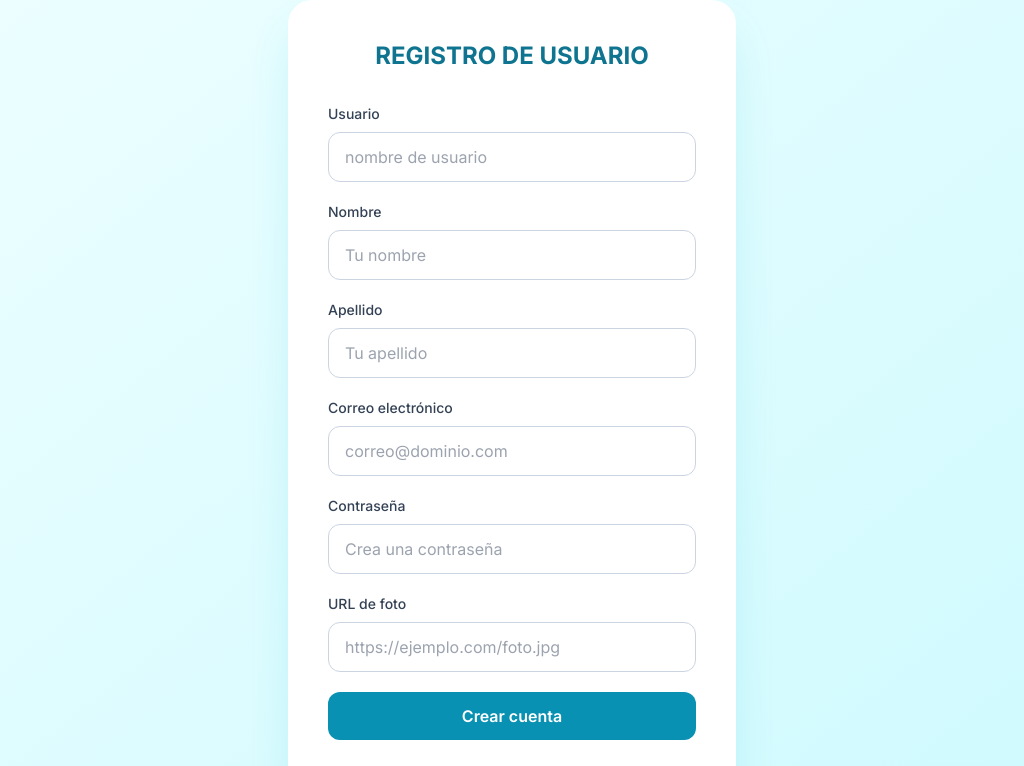
Test case: Register Page › debe cambiar el estado del botón mientras está procesando
Type "jdoe" into the field with placeholder "nombre de usuario" at (512, 157), box [328, 132, 696, 182]
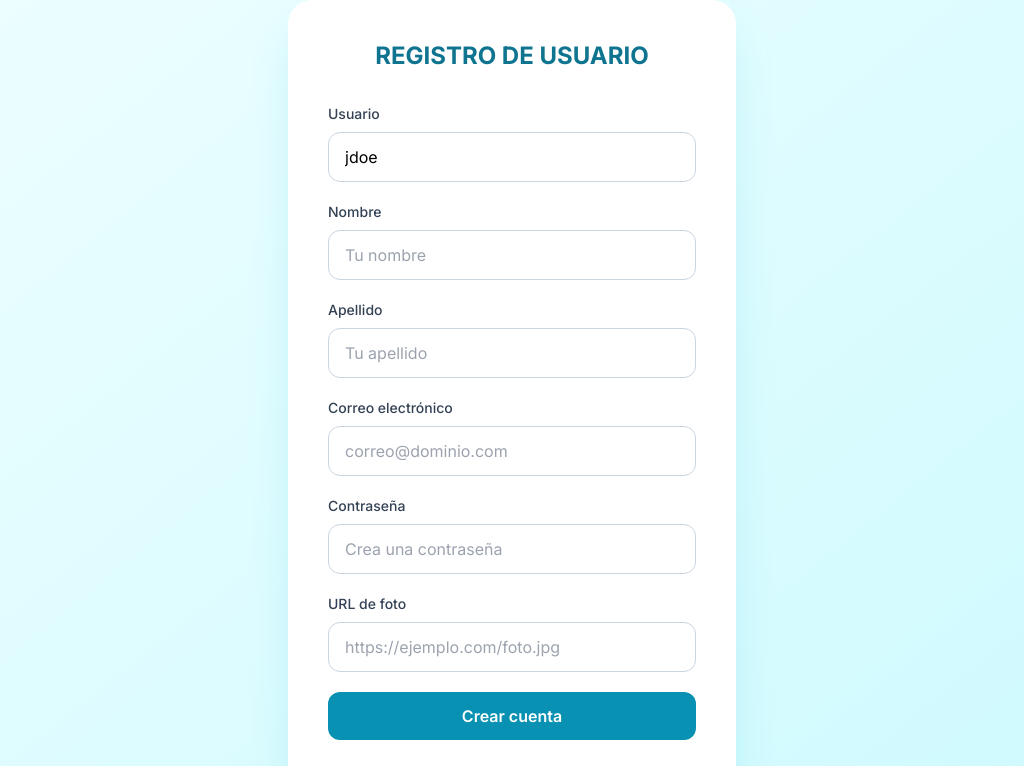
Type "John" into the field with placeholder "Tu nombre" at (512, 255), box [328, 230, 696, 280]
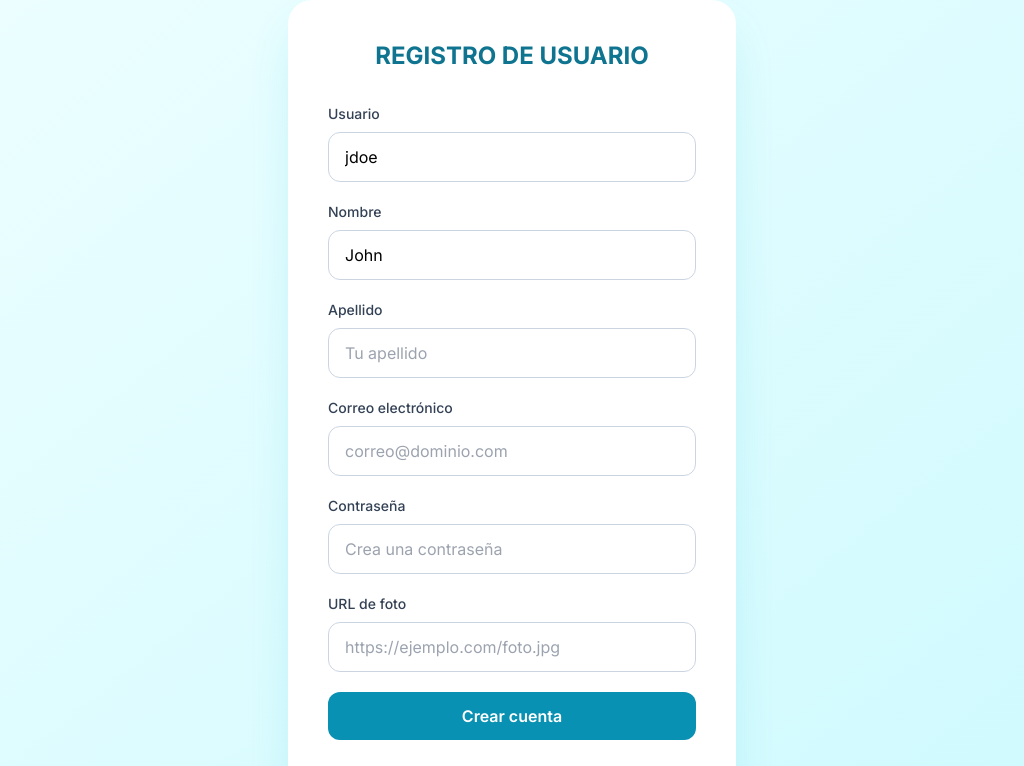
Type "Doe" into the field with placeholder "Tu apellido" at (512, 353), box [328, 328, 696, 378]
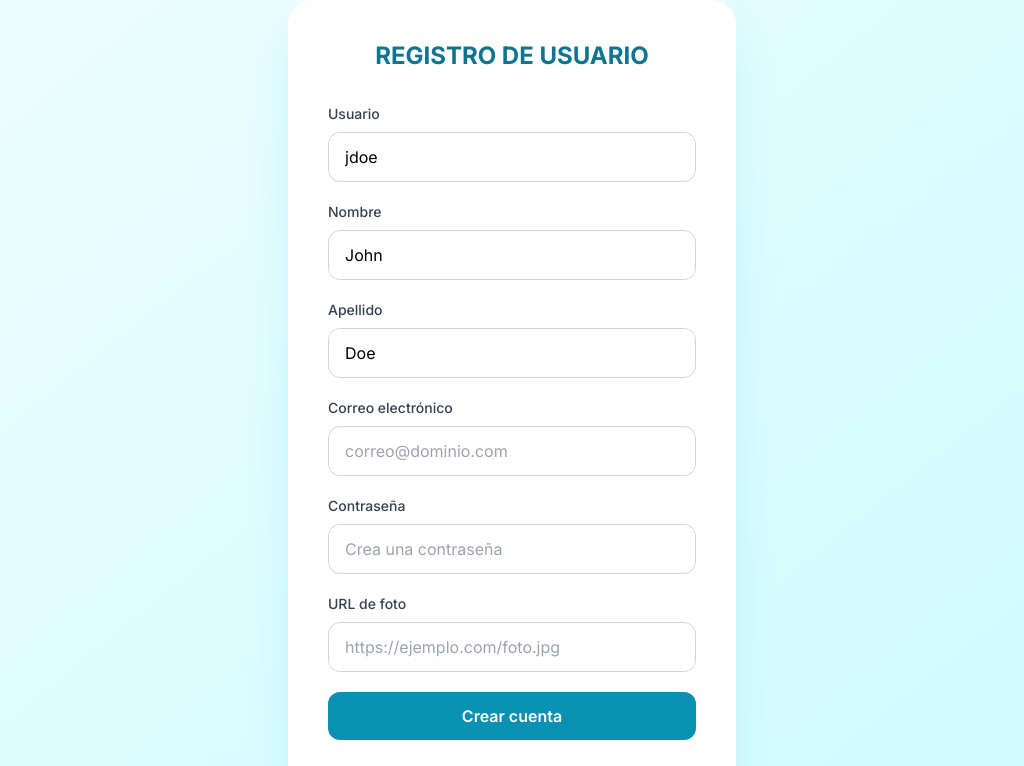
Type "john@test.com" into the field with placeholder "correo@dominio.com" at (512, 451), box [328, 426, 696, 476]
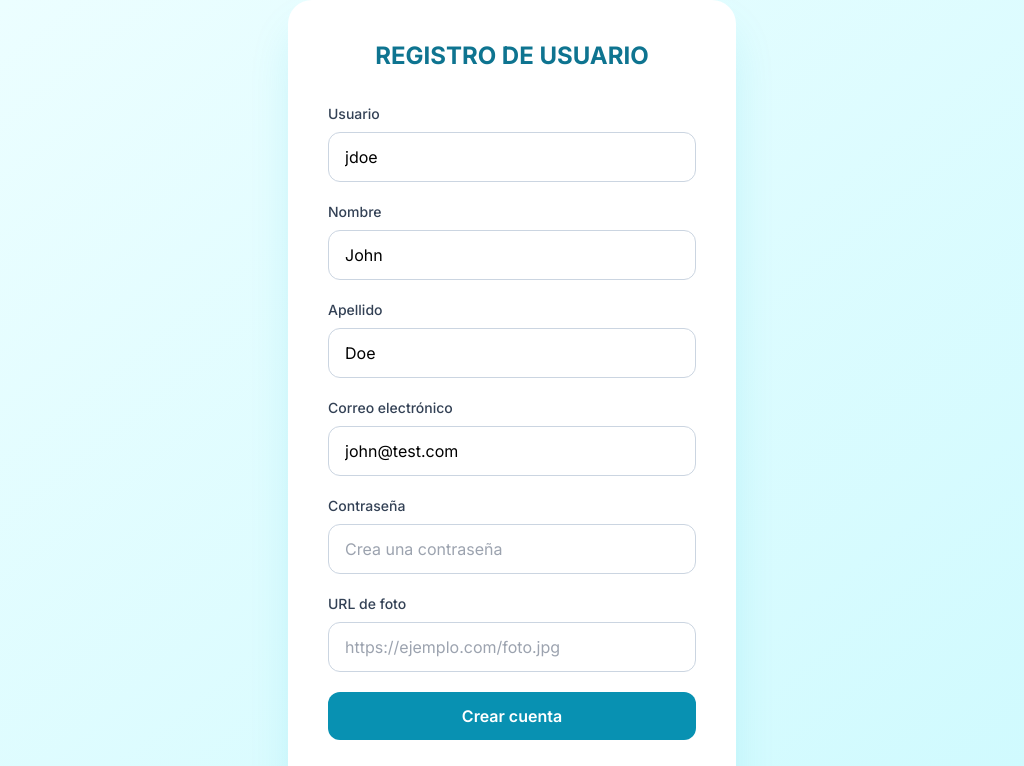
Type "password123" into the password field with placeholder "Crea una contraseña" at (512, 549), box [328, 524, 696, 574]
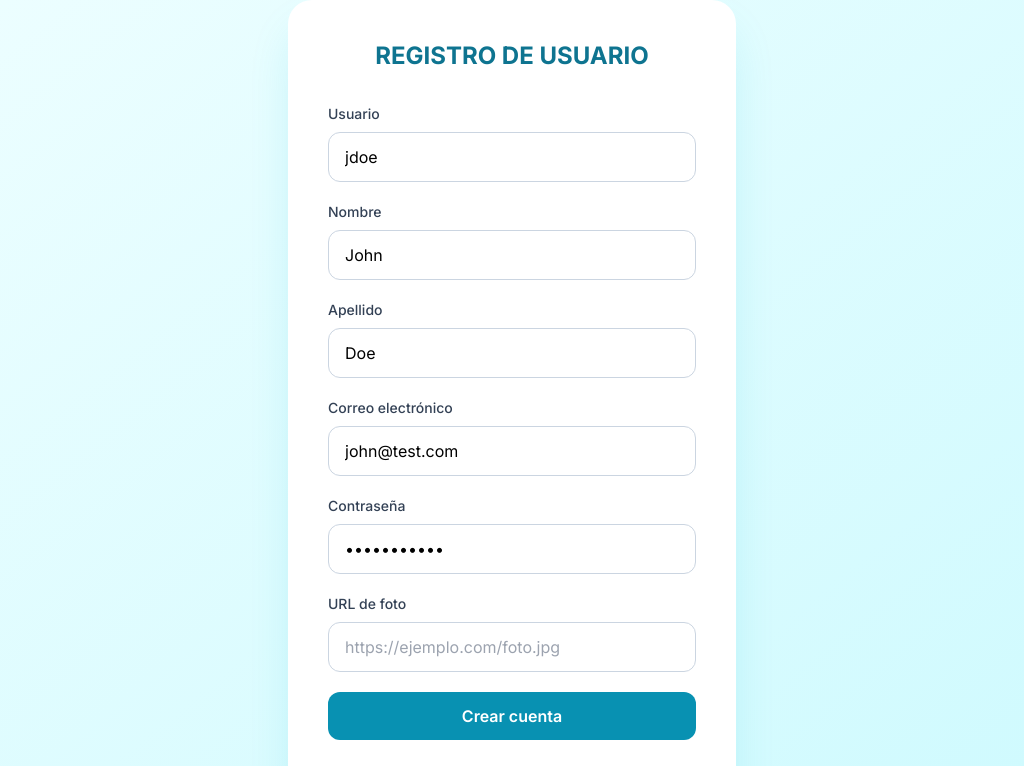
Click the button "Crear cuenta" at (512, 716), box [328, 692, 696, 740]
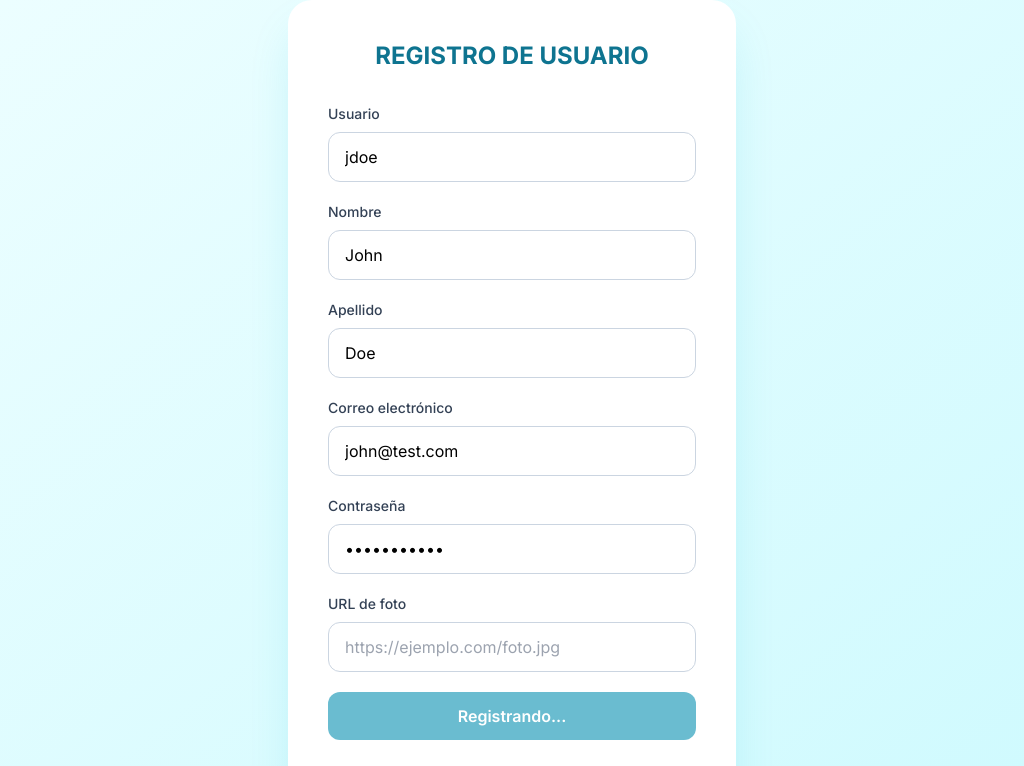
Now the button named "crear cuenta" is disabled, box [328, 692, 696, 740]
